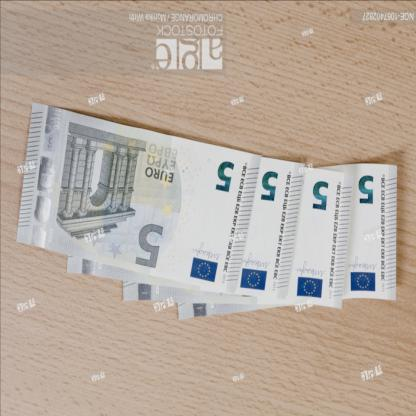euro_banknote: (14, 126, 255, 269), (126, 166, 353, 306), (75, 148, 300, 288), (290, 192, 416, 275)
